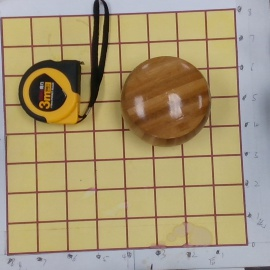chess: (120, 56, 213, 148)
